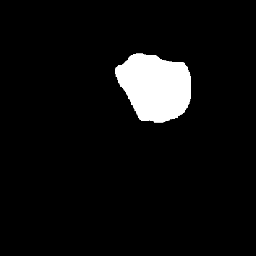mass: (121, 54, 191, 123)
